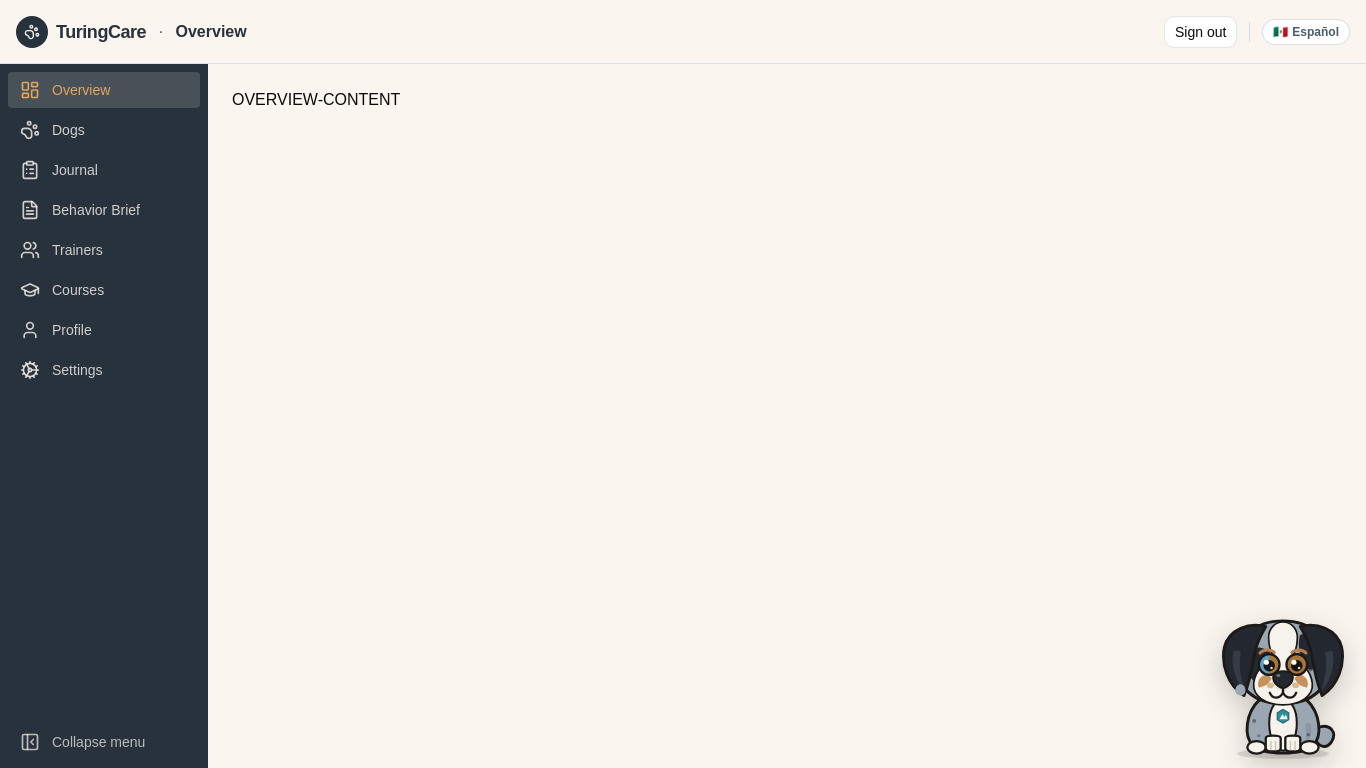
it: AppShell › clears owner caches before navigating after a successful sign out
This screenshot has width=1366, height=768.
Click the button "Sign out" at (1201, 32), box left=1164, top=16, right=1237, bottom=48
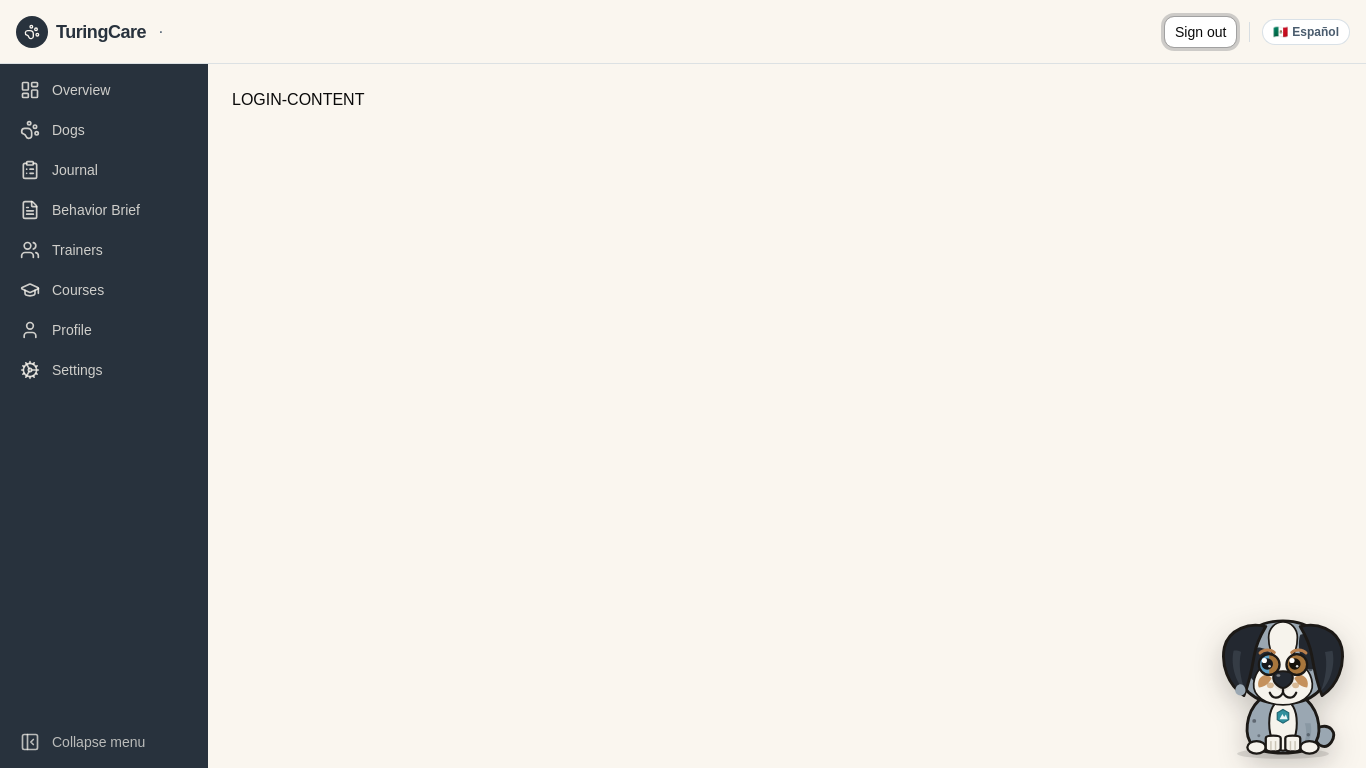
Check: the text "LOGIN-CONTENT" is shown, box left=232, top=91, right=364, bottom=108
